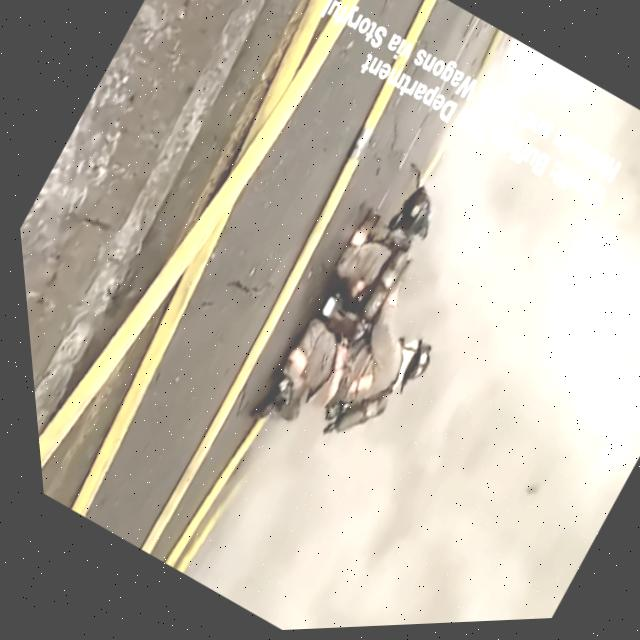Smoke: (141, 131, 640, 635)
